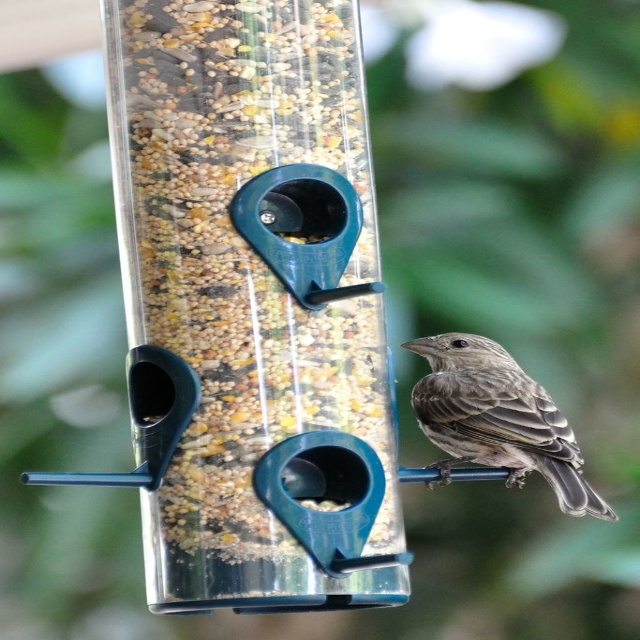Sparrow: (400, 333, 620, 519)
